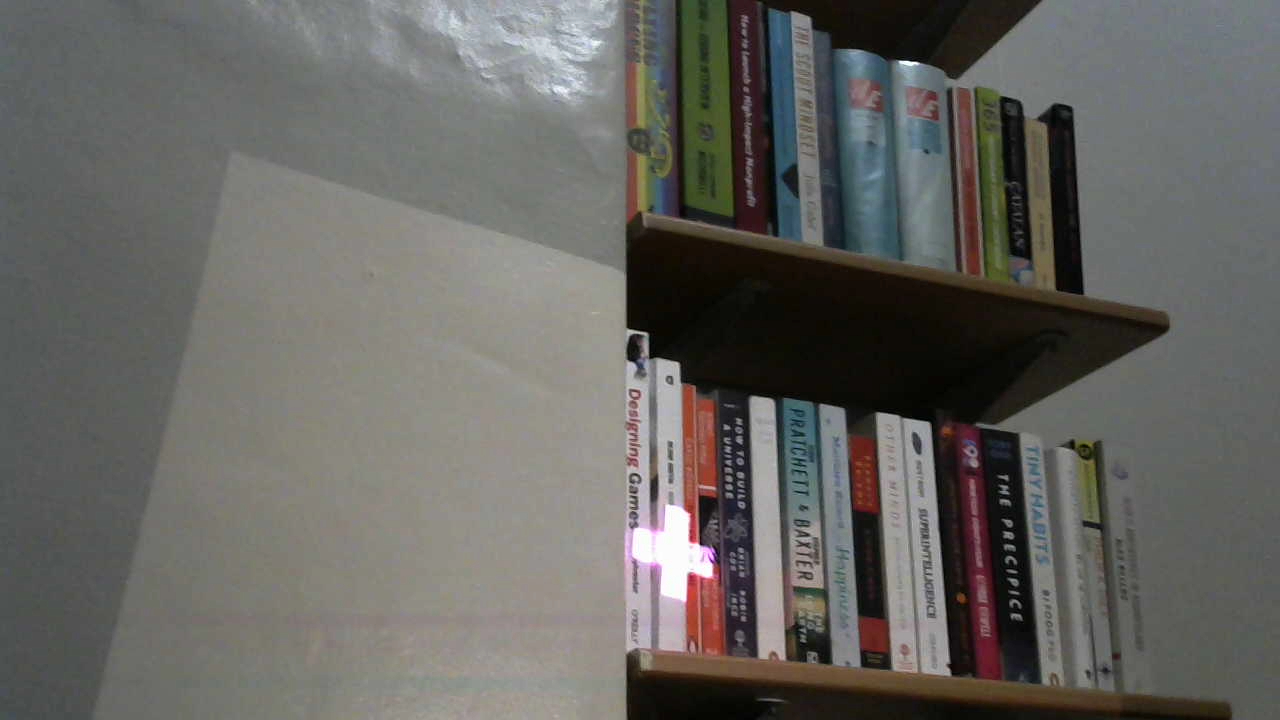calibration_symbol: (630, 501, 714, 601)
